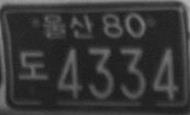0: (124, 12, 146, 38)
3: (87, 47, 114, 100), (120, 47, 146, 99)
4: (56, 48, 84, 99), (152, 47, 179, 99)
8: (101, 13, 123, 37)
도: (19, 49, 48, 81)
울산_O: (42, 13, 94, 40)
